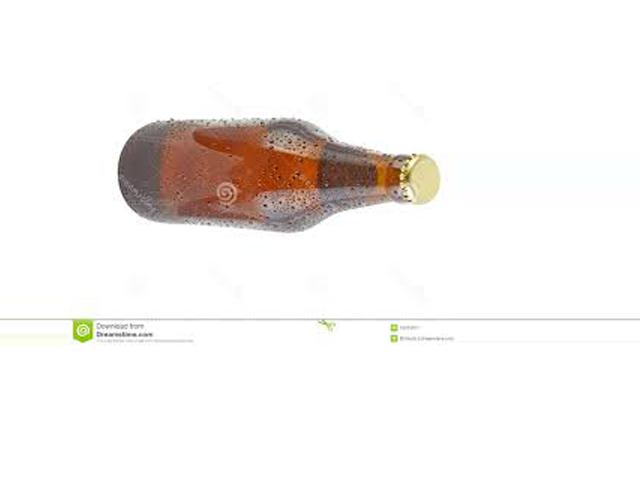beer: (118, 118, 438, 232)
